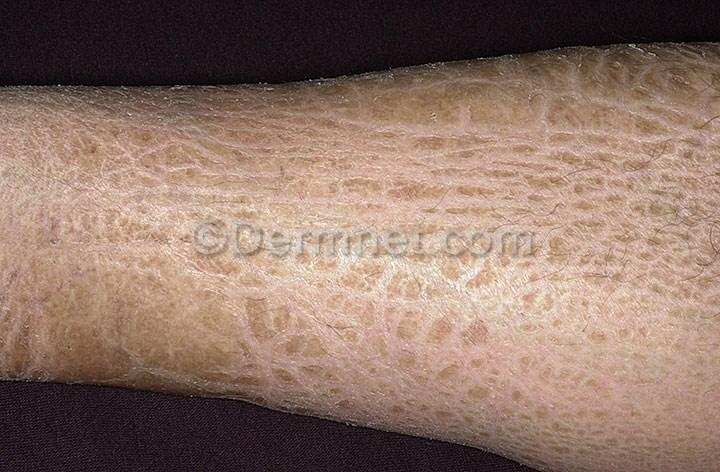liquenificacion 2: (0, 39, 719, 471)
xerosis 1: (0, 354, 597, 471), (0, 38, 719, 108)
